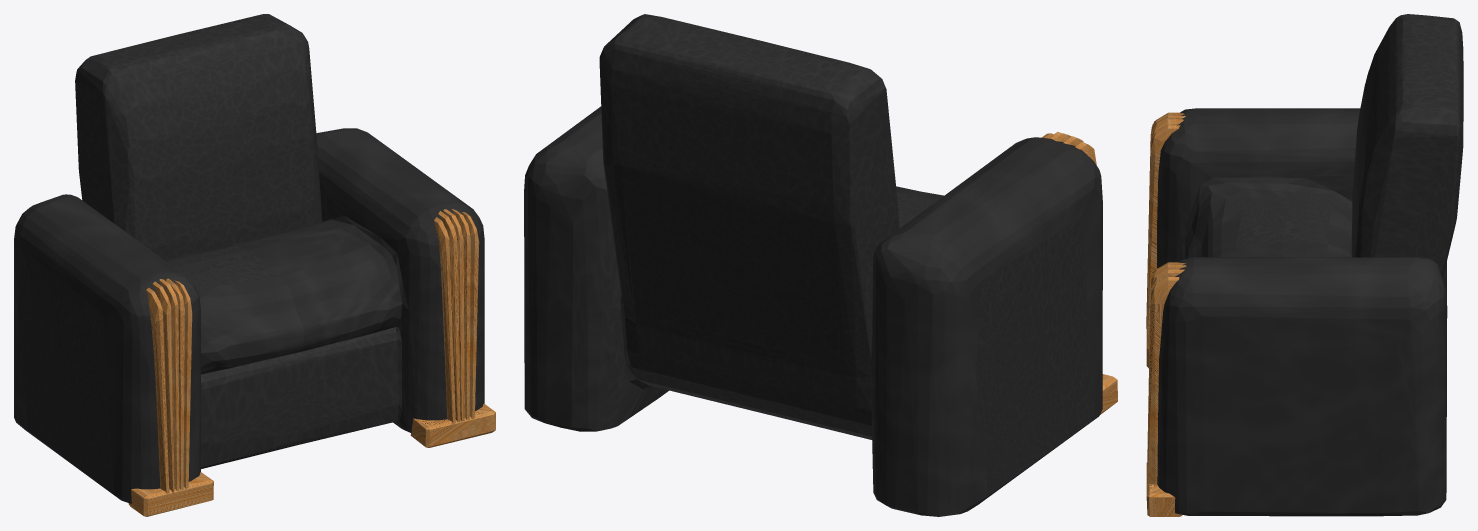
Rendered from tp_armchair.433a6276.glb.
The picture shows the model from 3 angles, left to right: view 1: azimuth 30°, elevation 25°; view 2: azimuth 150°, elevation 25°; view 3: azimuth 270°, elevation 25°; orthographic projection. The views are drawn at different scales.
Parts seen in each view (by area): view 1: Roundcube; view 2: Roundcube; view 3: Roundcube.
Boxes of the visible parts, x1=… form: Roundcube: x1=14, y1=14, x2=495, y2=516; Roundcube: x1=524, y1=14, x2=1117, y2=516; Roundcube: x1=1146, y1=14, x2=1463, y2=516.
Bounding box in the file's own units: 3.6 × 3.21 × 2.52.
Materials: 2 (2 with a texture image).
